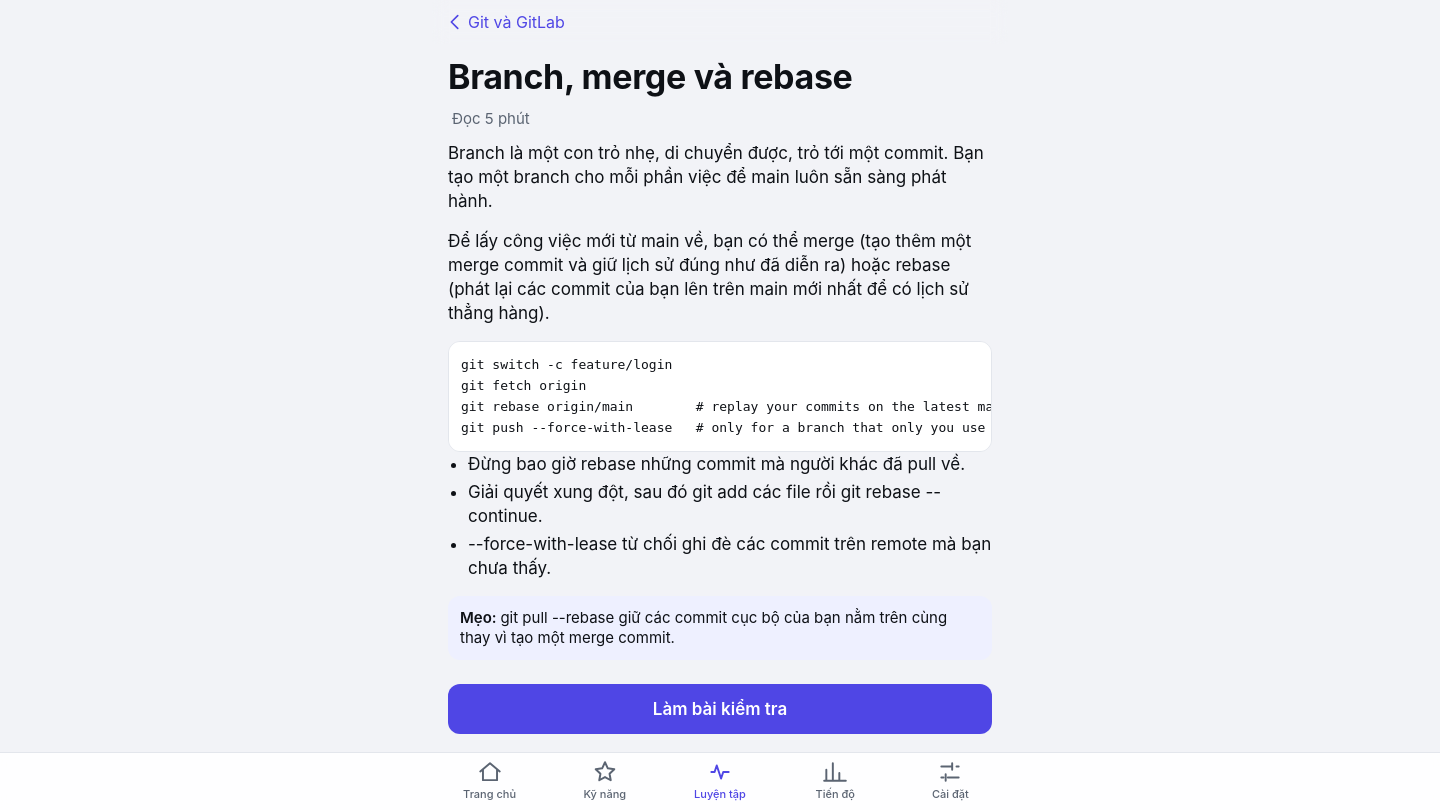
Scenario: learning UI in Vietnamese › translates a lesson, and the quiz still scores by option index
Check: the heading "Branch, merge và rebase" is shown, box [448, 56, 852, 97]
Check: the text "Đọc 5 phút" is shown, box [452, 109, 530, 128]
Click the button "Làm bài kiểm tra".
click(720, 708)  # box [448, 684, 992, 734]
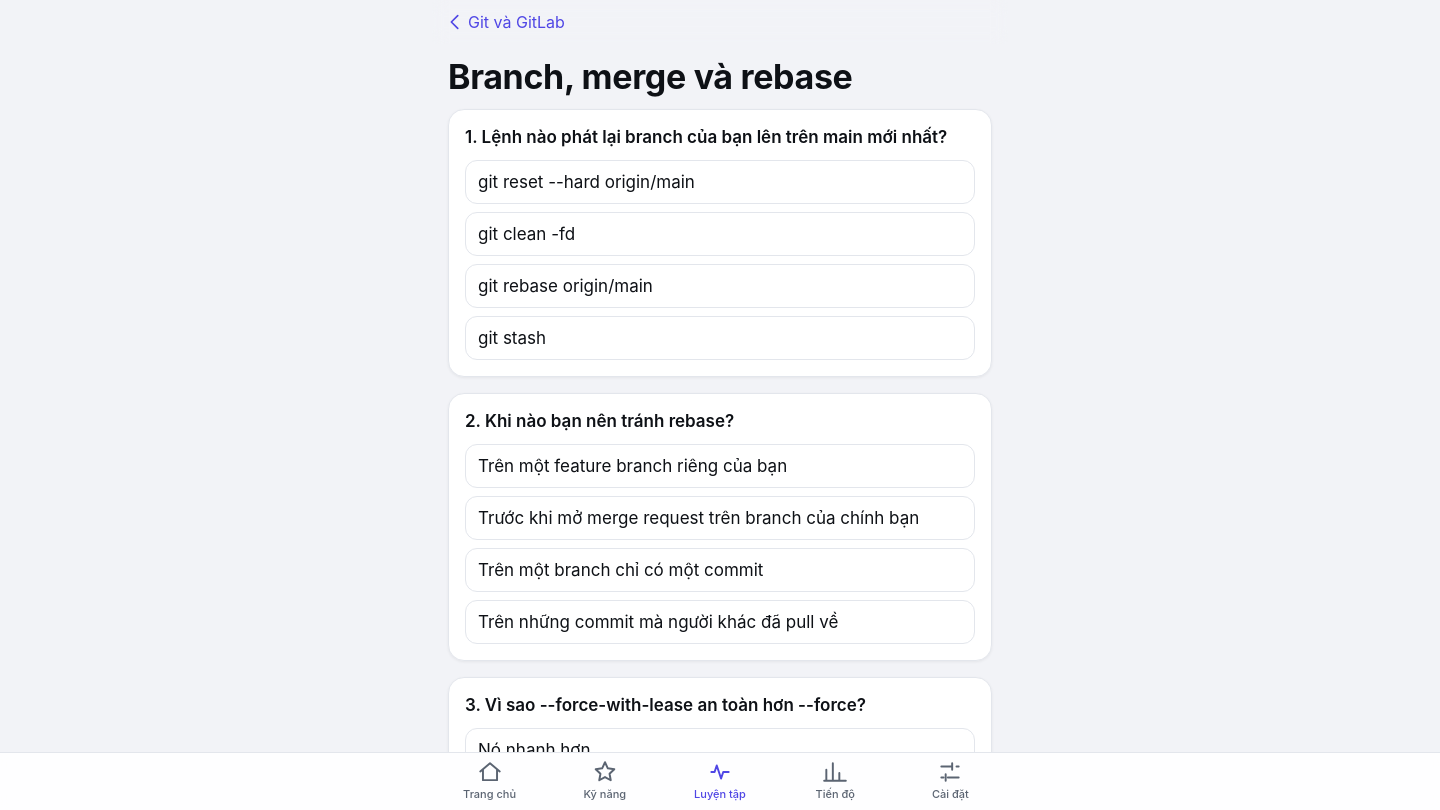
Click the radio button labelled "git rebase origin/main".
click(565, 286)  # box [465, 264, 975, 308]
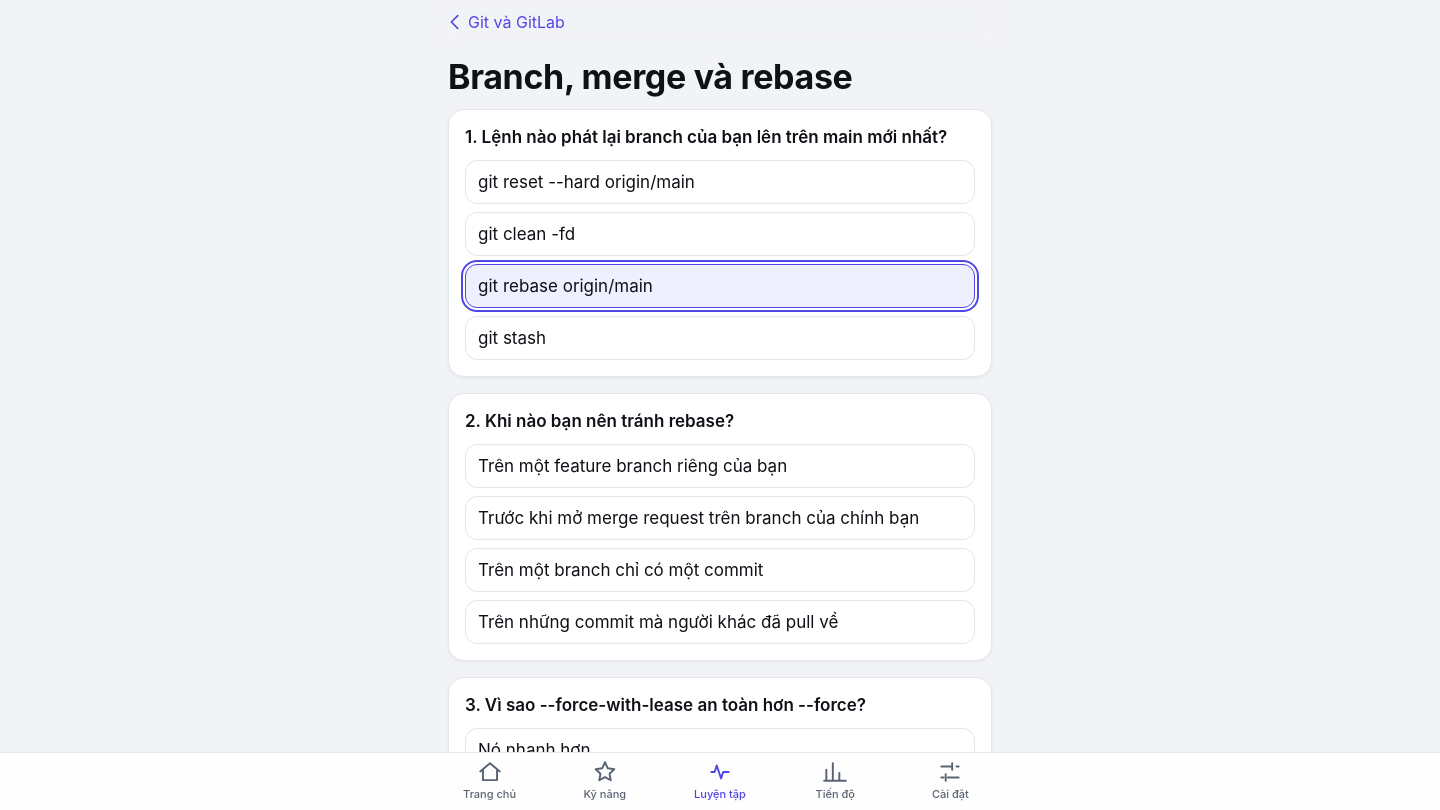
Click the radio button labelled "Trên những commit mà người khác đã pull về".
click(720, 622)  # box [465, 600, 975, 644]
(page scrolled)
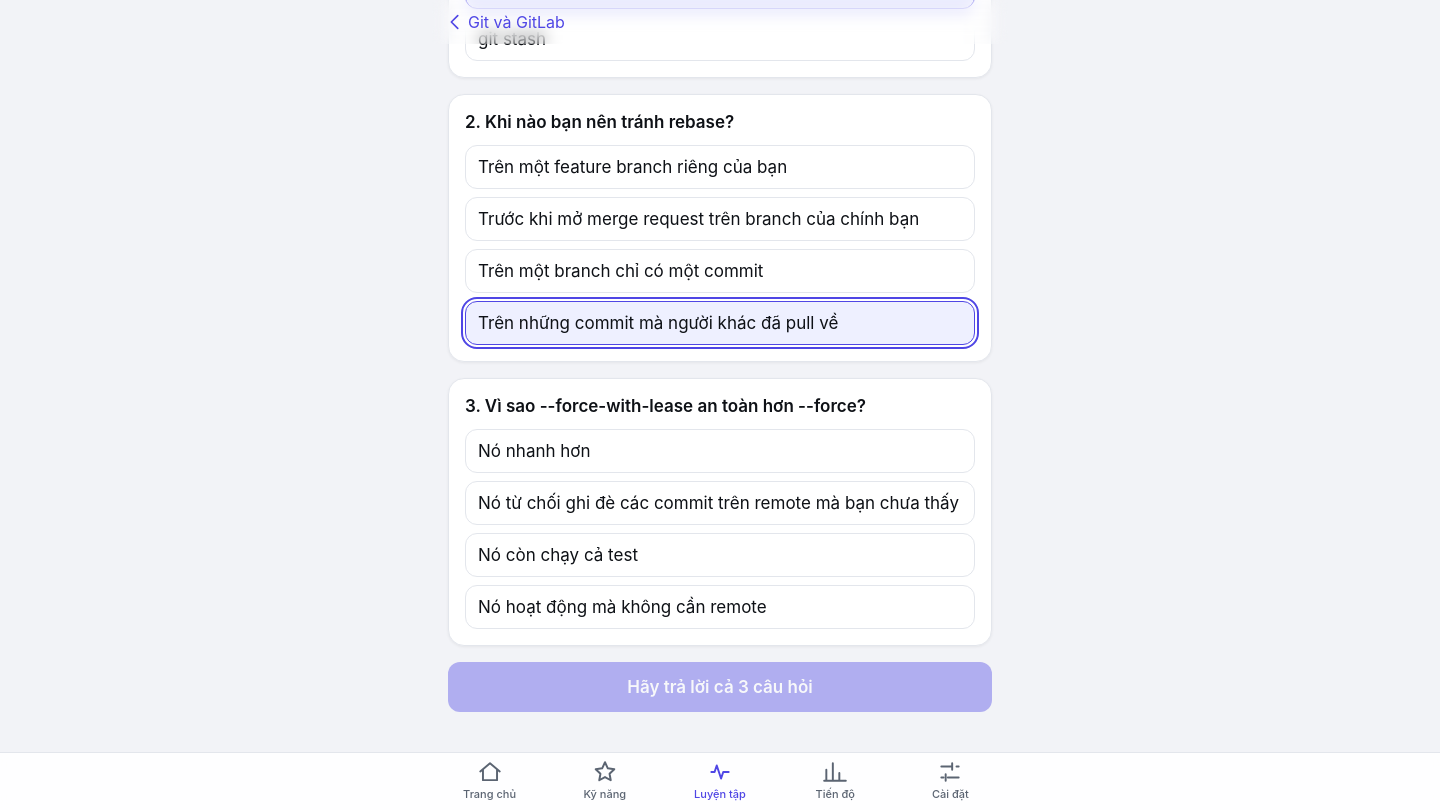
Click the radio button labelled "Nó từ chối ghi đè các commit trên remote mà bạn chưa thấy".
click(720, 503)  # box [465, 481, 975, 525]
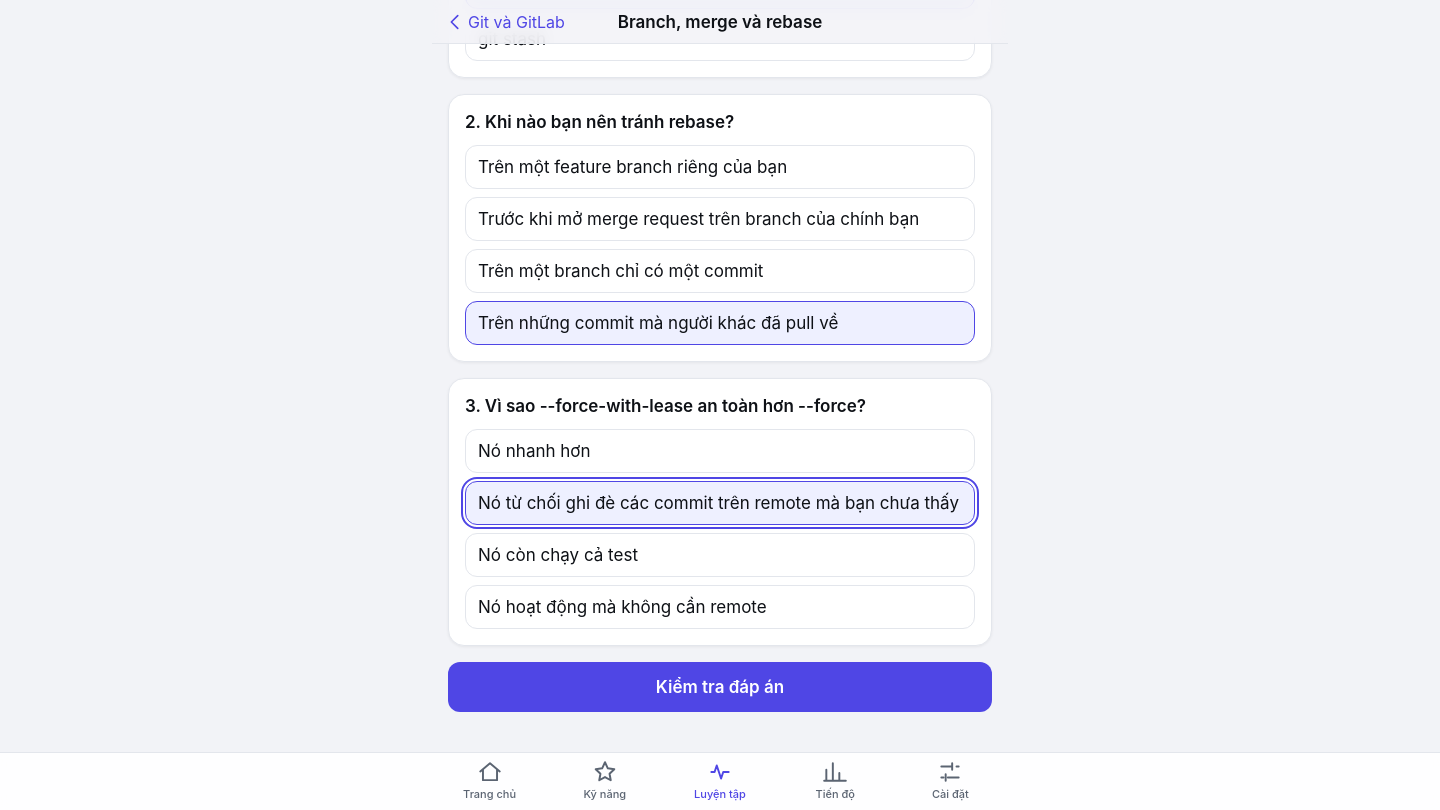
Click the button "Kiểm tra đáp án".
click(720, 687)  # box [448, 662, 992, 712]
(page scrolled)
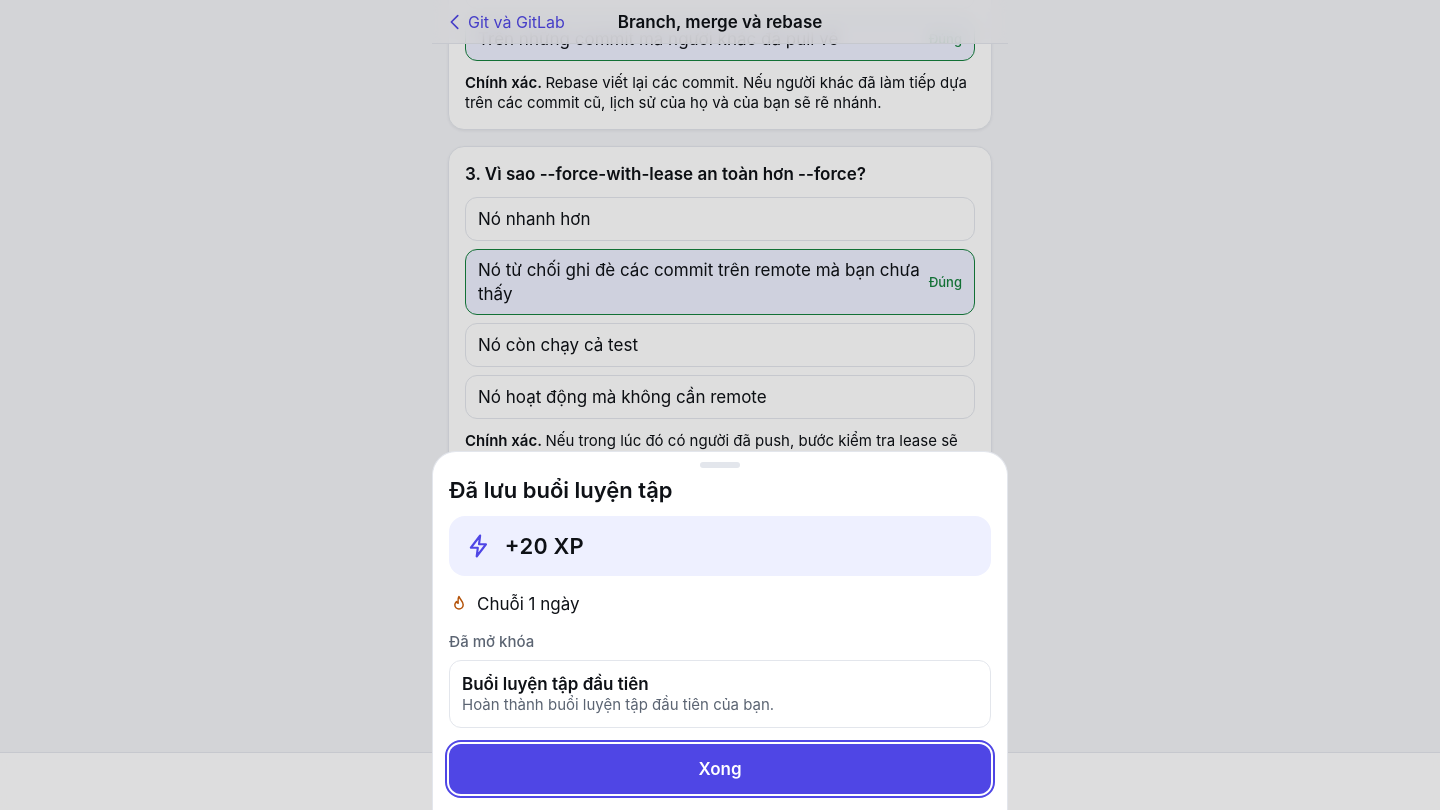
Check: the text "Đúng 3/3 câu" is shown, box [465, 522, 609, 548]
Check: the text "Bạn đã hoàn thành bài học." is shown, box [465, 555, 684, 575]
Check: the text "Chính xác." is shown 3 times
